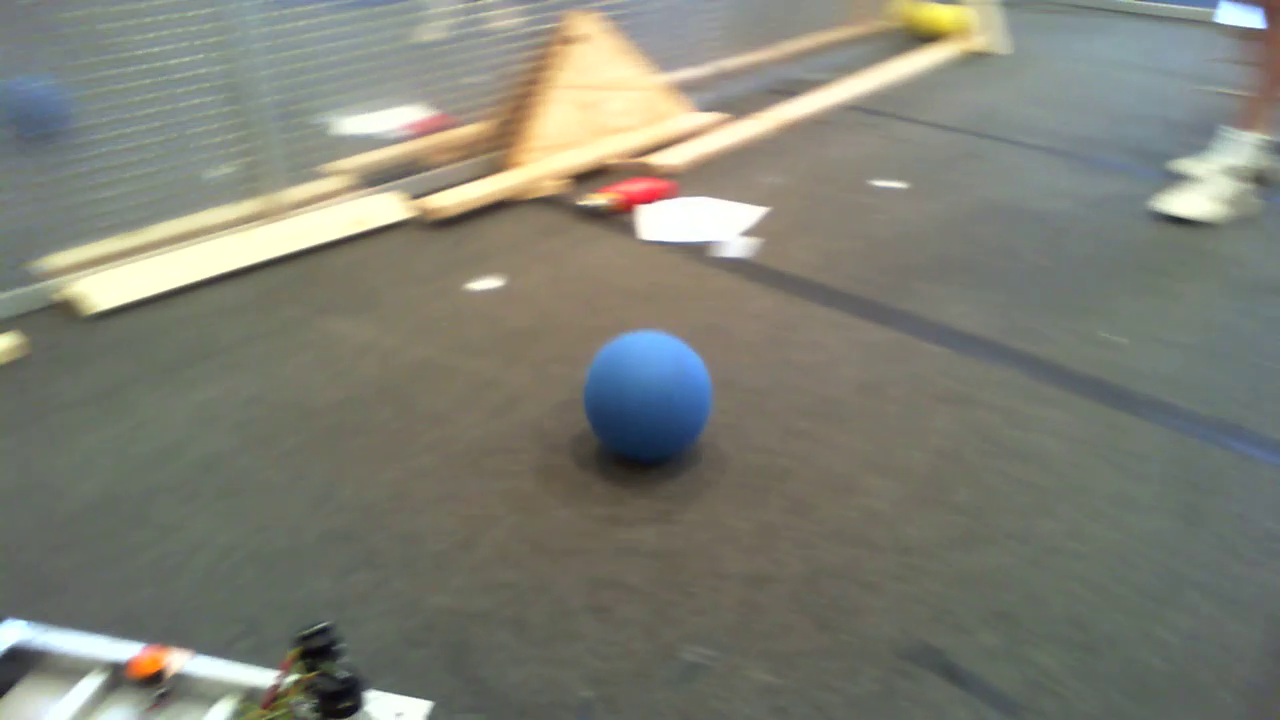blue_cargo: (583, 322, 715, 460)
